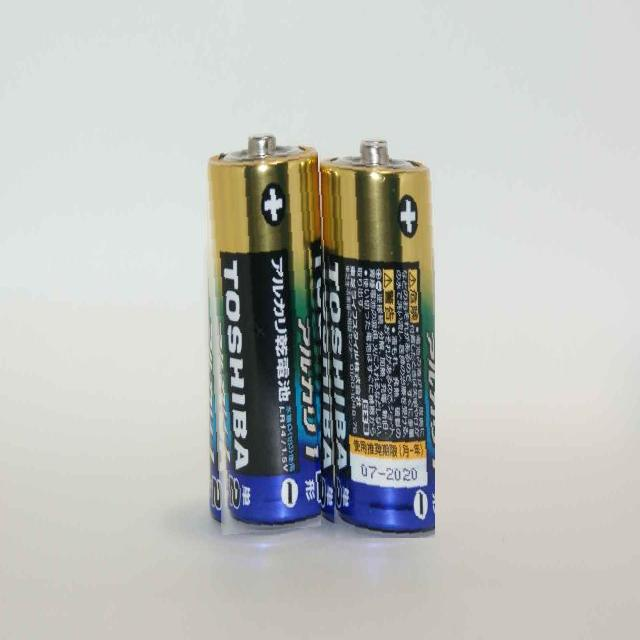battery: (202, 133, 322, 535), (317, 138, 435, 538)
